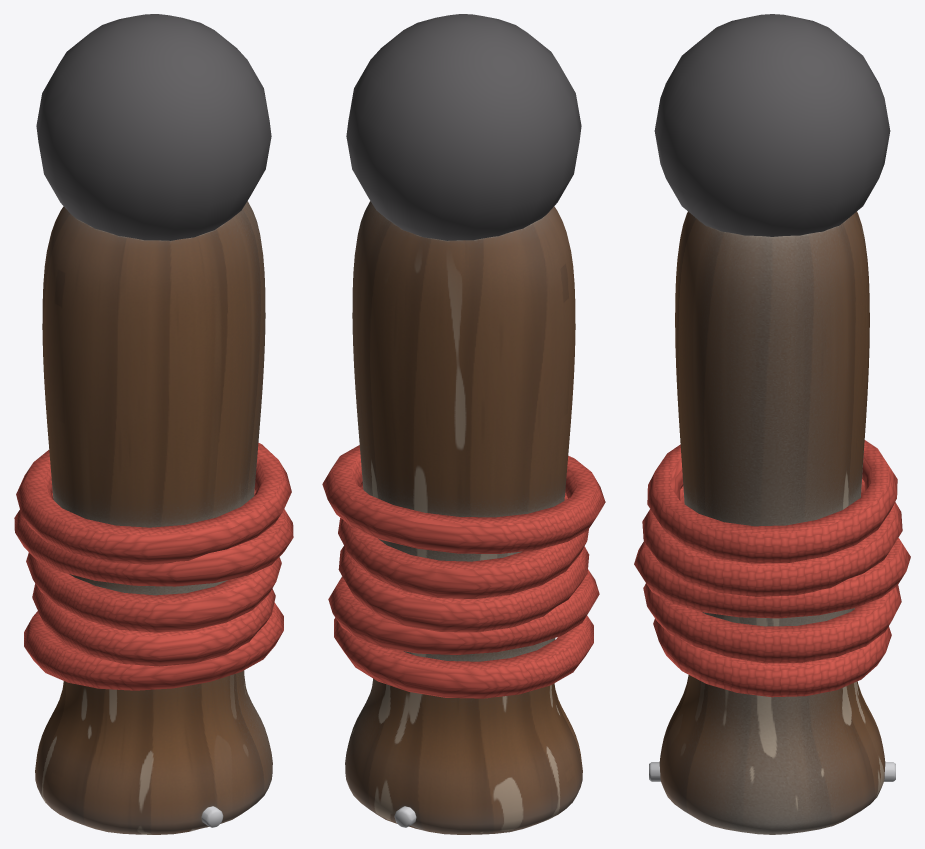
File: LowerArm_R.glb
3 renders of one model, left to right at view 1: azimuth 30°, elevation 25°; view 2: azimuth 150°, elevation 25°; view 3: azimuth 270°, elevation 25°, orthographic.
Visible parts, largest first — view 1: LowerArm_R, LowerArm_R_Wrap, LowerArm_R_Ball; view 2: LowerArm_R, LowerArm_R_Wrap, LowerArm_R_Ball; view 3: LowerArm_R, LowerArm_R_Wrap, LowerArm_R_Ball.
Boxes of the visible parts, box(x1,y1,x2,y2) form: LowerArm_R: box(35, 201, 272, 834); LowerArm_R_Wrap: box(14, 442, 293, 690); LowerArm_R_Ball: box(36, 14, 271, 240); LowerArm_R: box(345, 201, 582, 834); LowerArm_R_Wrap: box(322, 445, 605, 698); LowerArm_R_Ball: box(346, 14, 581, 240); LowerArm_R: box(659, 211, 885, 834); LowerArm_R_Wrap: box(634, 440, 910, 697); LowerArm_R_Ball: box(654, 14, 890, 236).
Bounding box in the file's own units: 0.109 × 0.3235 × 0.1058.
4 materials, 2 textured.
